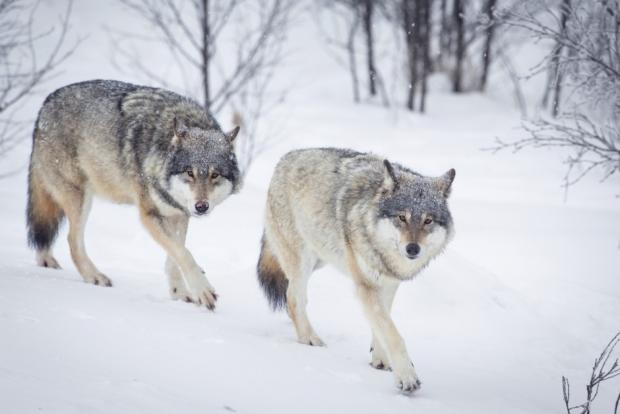wolf: (231, 152, 474, 362), (9, 95, 242, 270)
